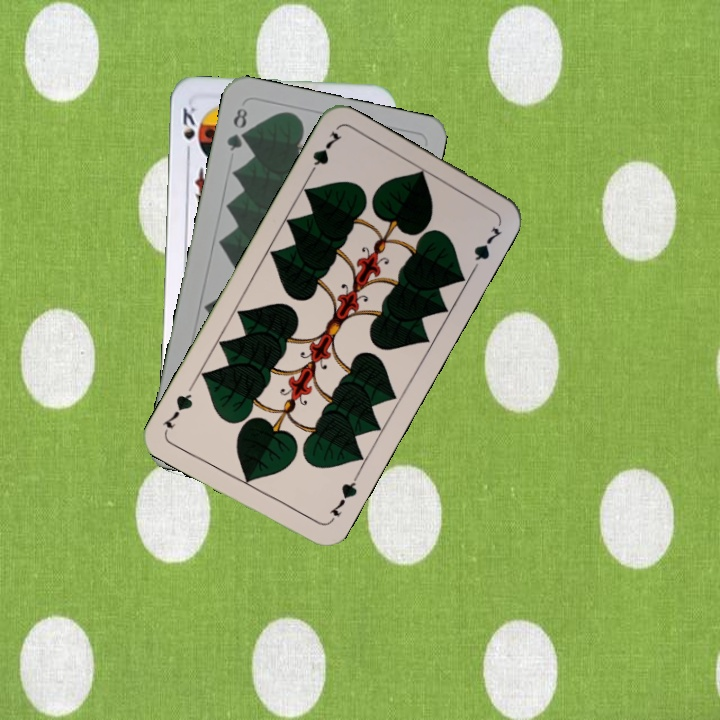G7: (303, 126, 345, 181), (324, 472, 361, 526)
G8: (222, 103, 250, 154)
SK: (178, 103, 203, 160)
